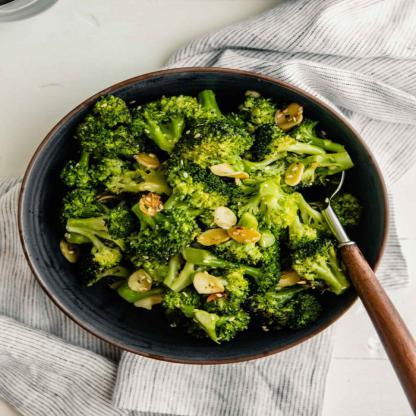broccoli: (57, 85, 358, 342)
